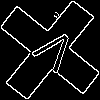V: (25, 25, 80, 82)
